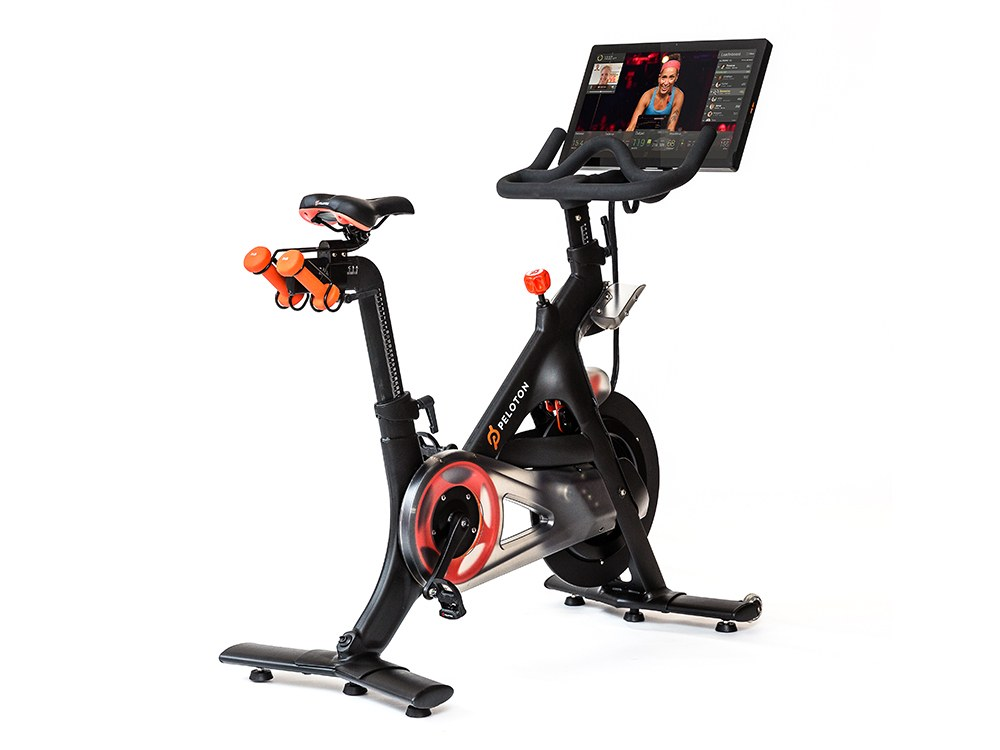gym_bike: (214, 36, 797, 722)
